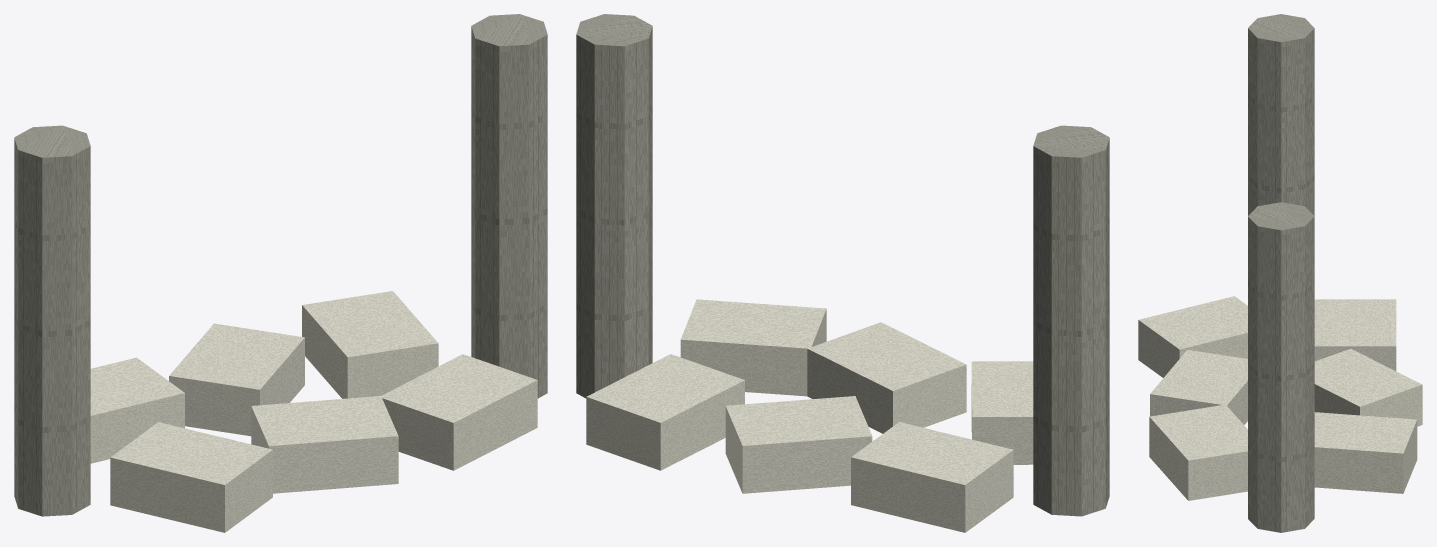
The model's file is washbasin_shattered.glb.
3 views of the same model, side by side, from view 1: azimuth 30°, elevation 25°; view 2: azimuth 150°, elevation 25°; view 3: azimuth 270°, elevation 25° (orthographic). The views are drawn at different scales.
Visible parts, largest first — view 1: shard (×6), leg (×2); view 2: shard (×6), leg (×2); view 3: shard (×6), leg (×2).
Part boxes in pixels (x1,y1,x2,y2): shard (×6): [90, 291, 537, 532]; leg (×2): [14, 14, 547, 516]; shard (×6): [586, 299, 1033, 532]; leg (×2): [576, 14, 1109, 516]; shard (×6): [1138, 296, 1422, 500]; leg (×2): [1248, 14, 1314, 532].
Size of the model in its own units: 1.38 by 0.9 by 0.7658.
Materials: 1 (1 with a texture image).
